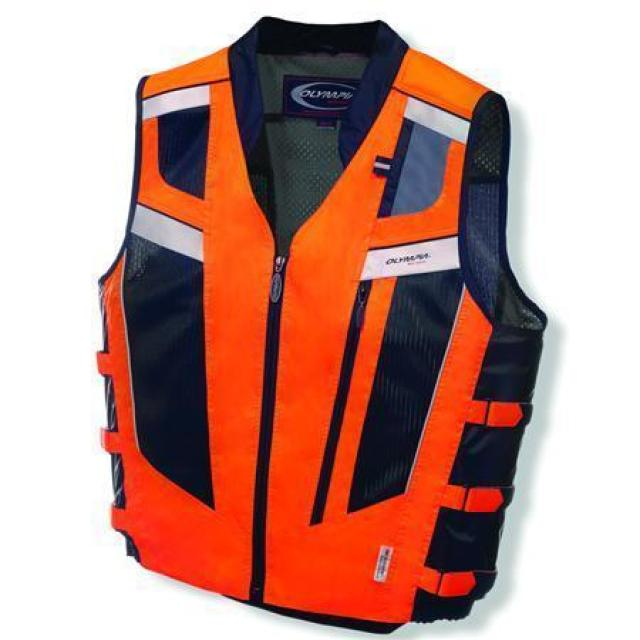Vest: (101, 16, 549, 630)
